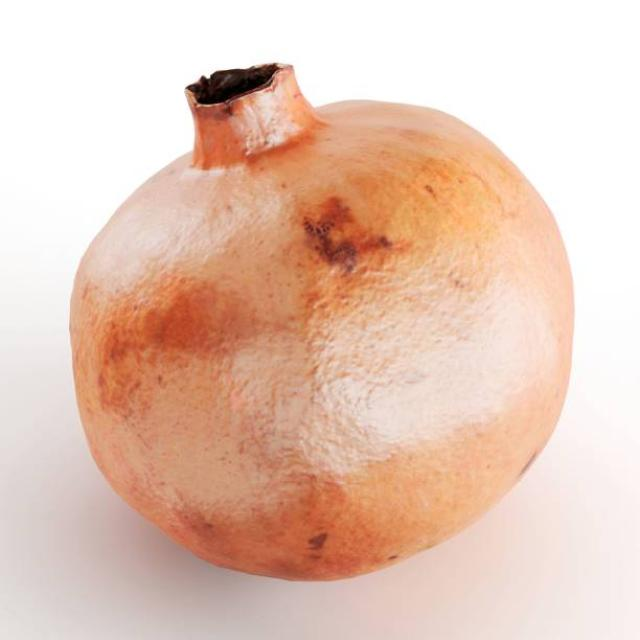overripe: (66, 42, 582, 586)
